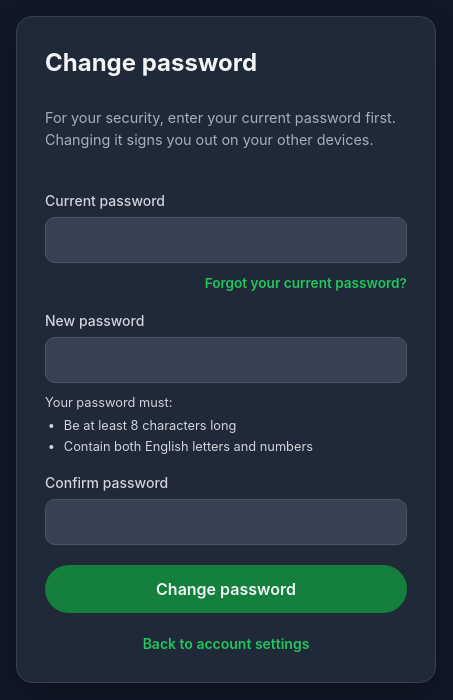
ChangePasswordPage › checks both new passwords match before sending
Type "OldPass!234" into the password field labelled "Current password" at (226, 240), box [45,217,407,263]
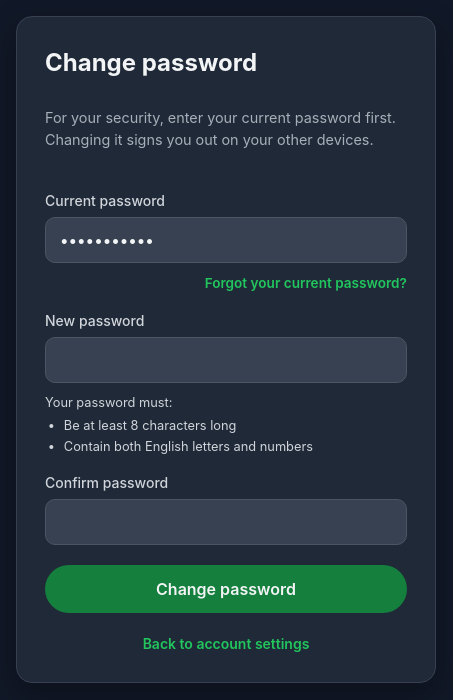
Type "BrandNew!567" into the password field labelled "New password" at (226, 360), box [45,337,407,383]
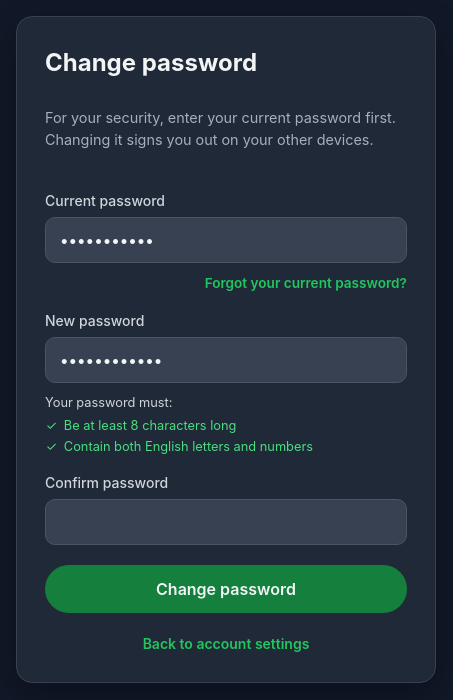
Type "Different!890" into the password field labelled "Confirm password" at (226, 522), box [45,499,407,545]
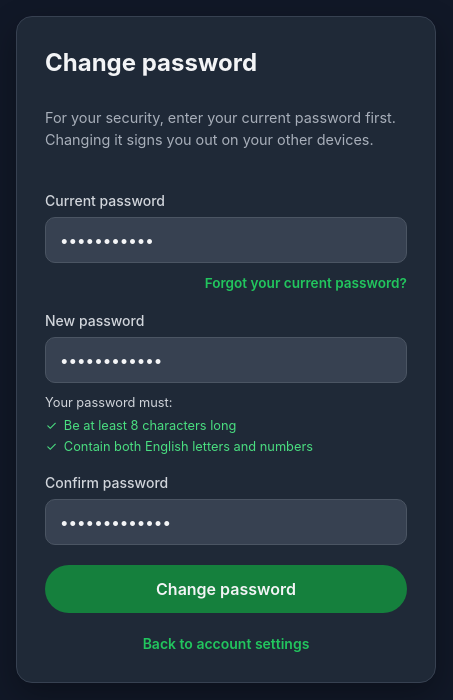
Click the button "Change password" at (226, 589), box [45,565,407,613]
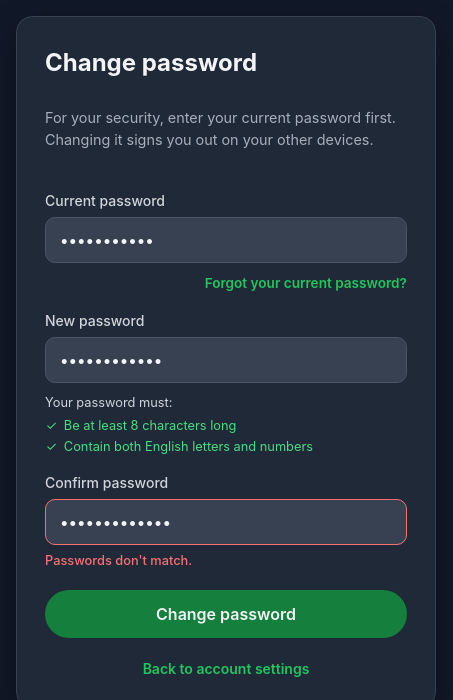
Expected: the text "Passwords don't match." is shown, [45,553,192,568]
